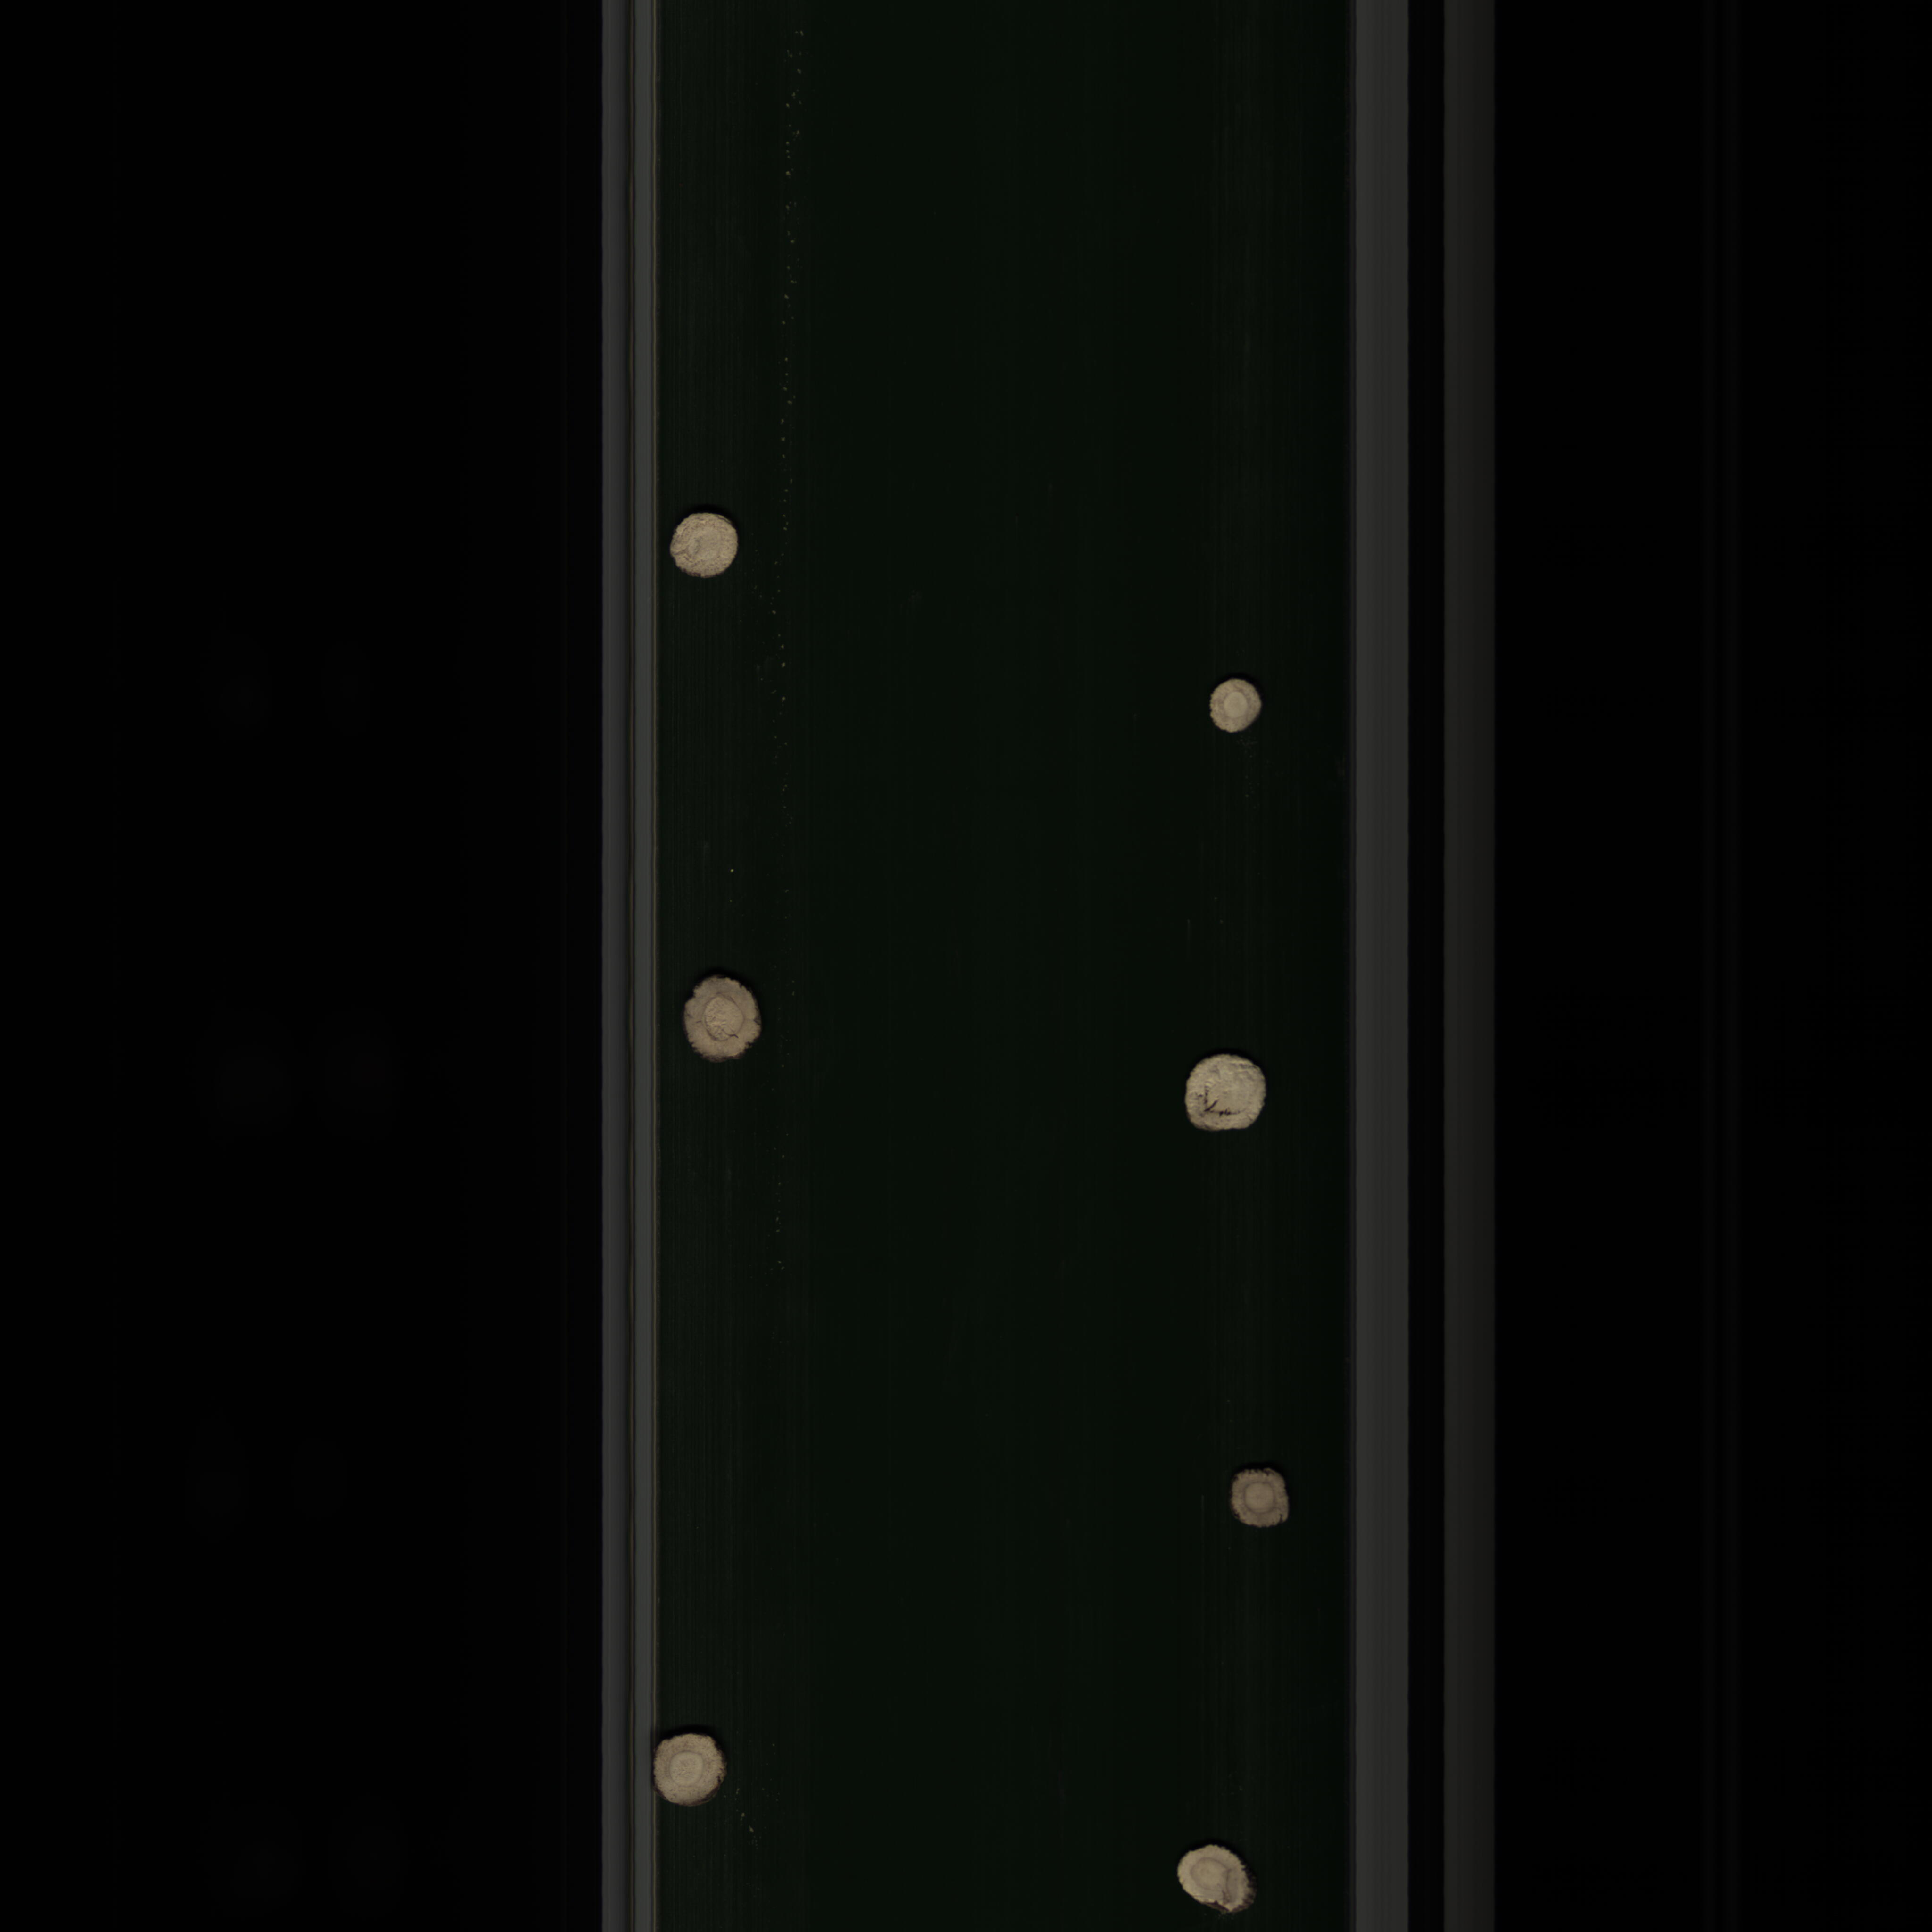hole: (1177, 1044, 1297, 1152)
moldy: (1223, 1454, 1315, 1537)
